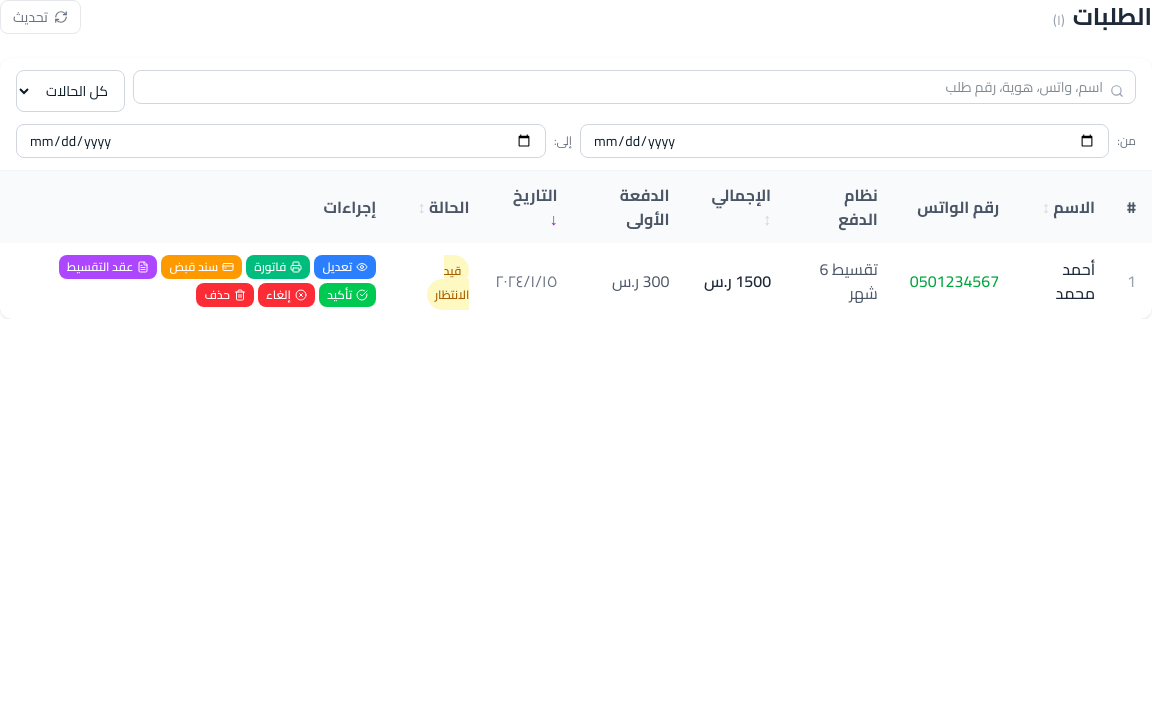
Scenario: OrdersPage — modal الحذف › زر إلغاء في الـ modal يغلقه
Expected: the text "أحمد محمد" is shown, [1015,243,1111,319]
Step 1. Click the button "حذف" → (225, 295), box [196,283,254,307]
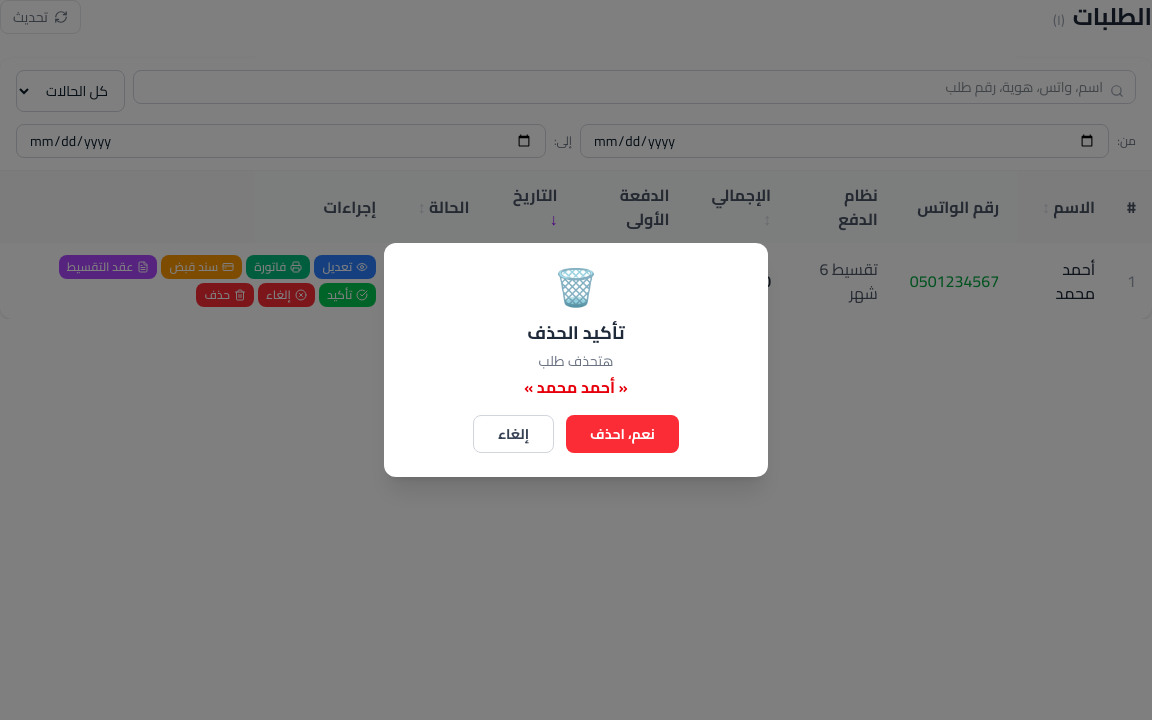
Expected: the heading "تأكيد الحذف" is shown, [527,316,625,349]
Step 2. Click the button "إلغاء" → (514, 434), box [473,415,554,453]
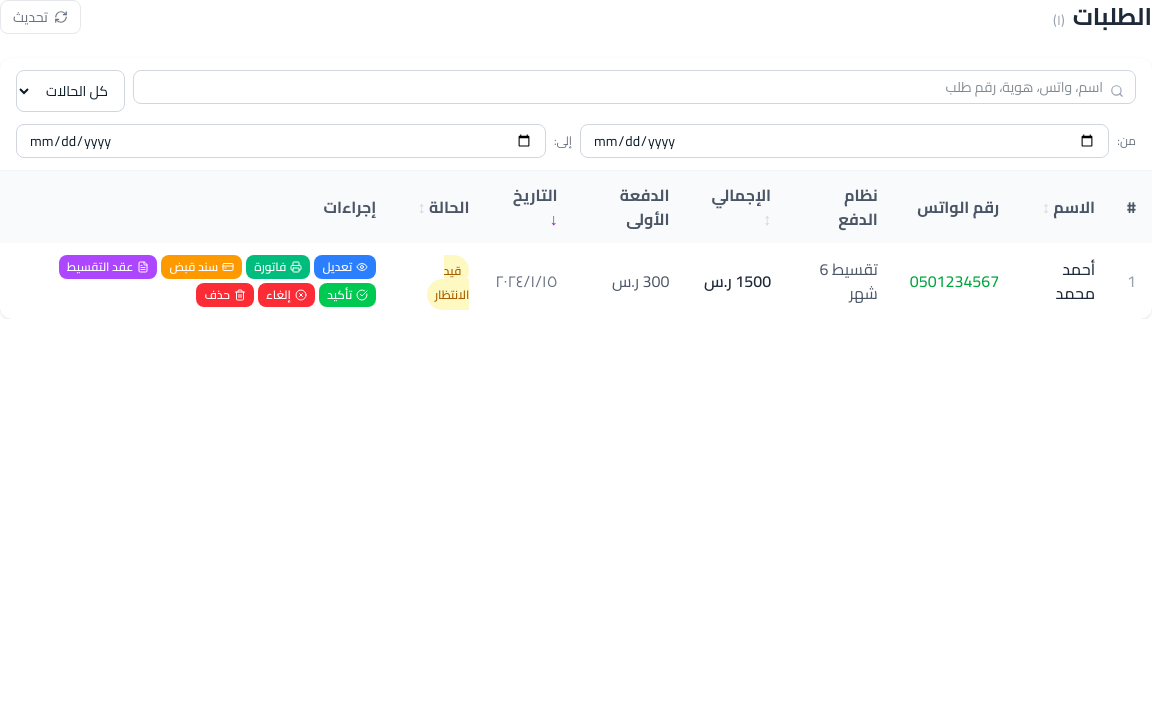
Expected: the heading "تأكيد الحذف" is gone
